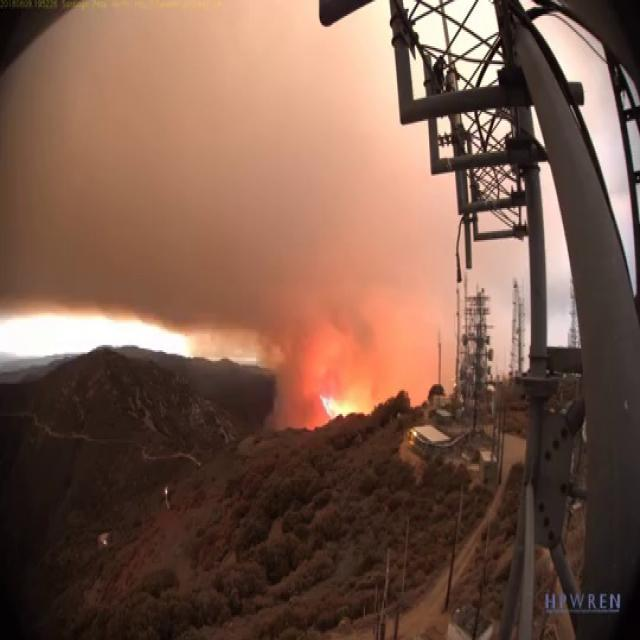Fire: (312, 392, 362, 419)
